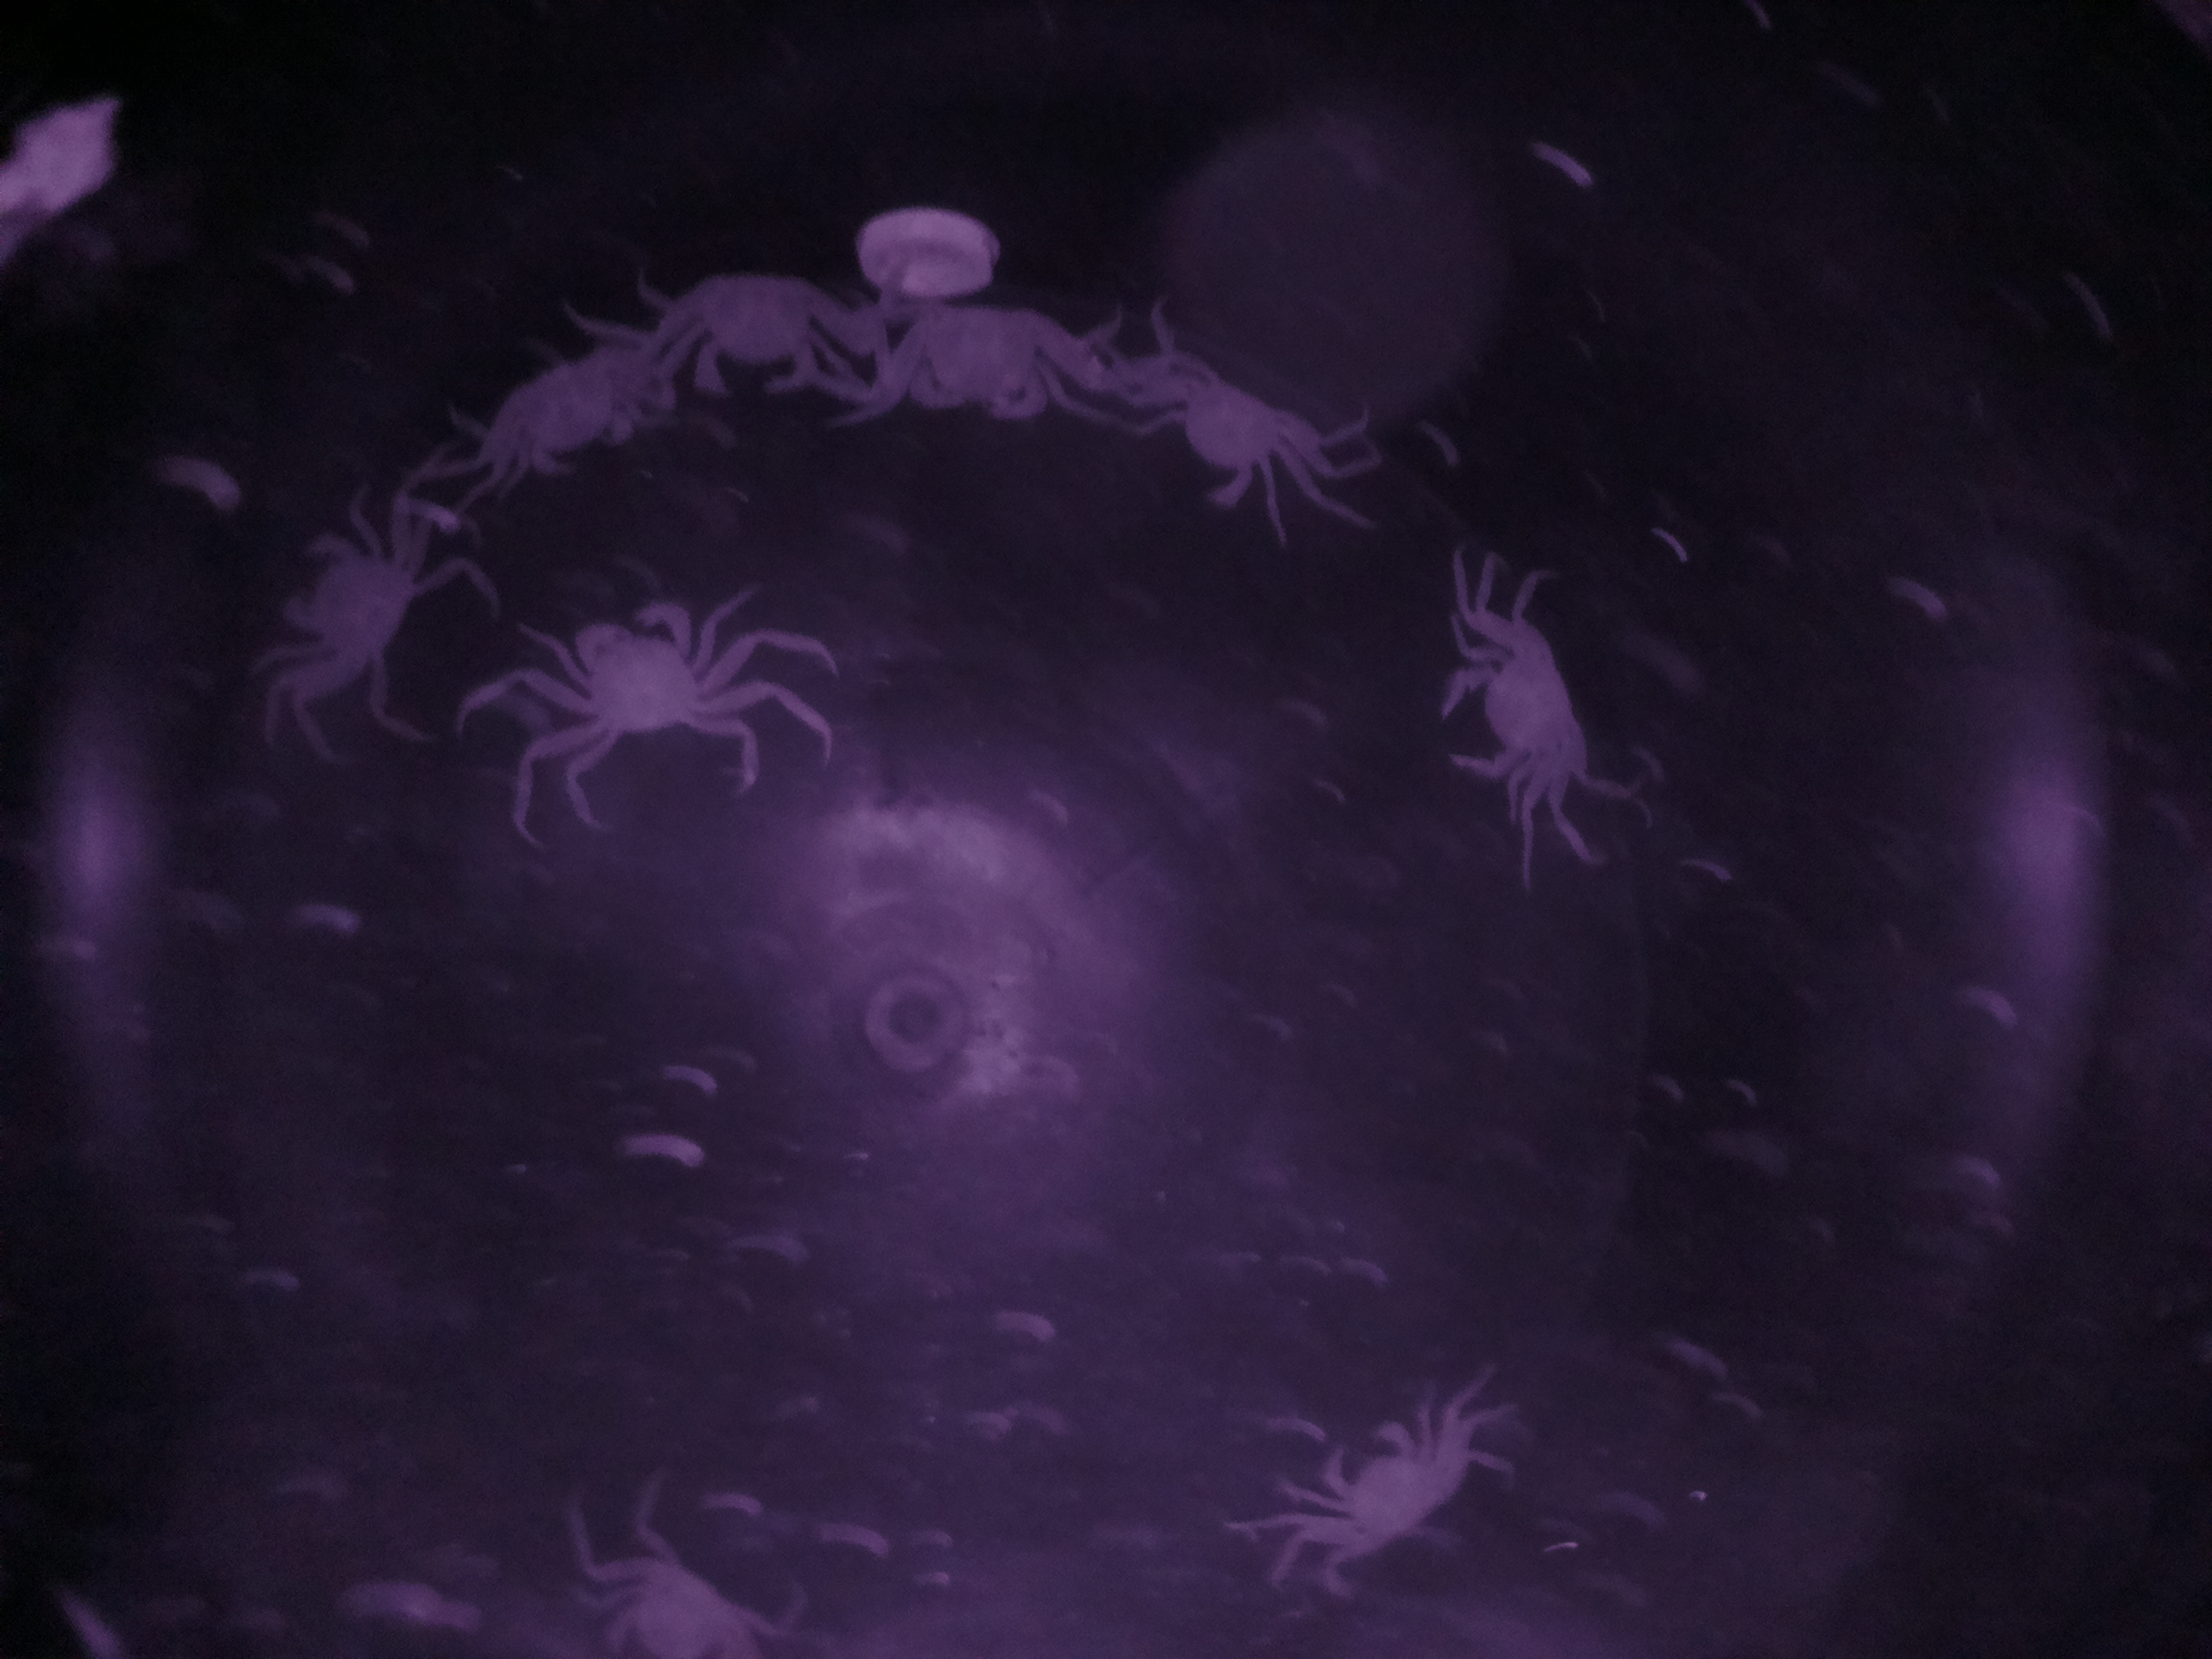Crab: (1421, 622, 1609, 814), (1287, 1394, 1484, 1577), (260, 509, 444, 702), (657, 249, 853, 422), (545, 584, 730, 758), (1129, 350, 1299, 528)
